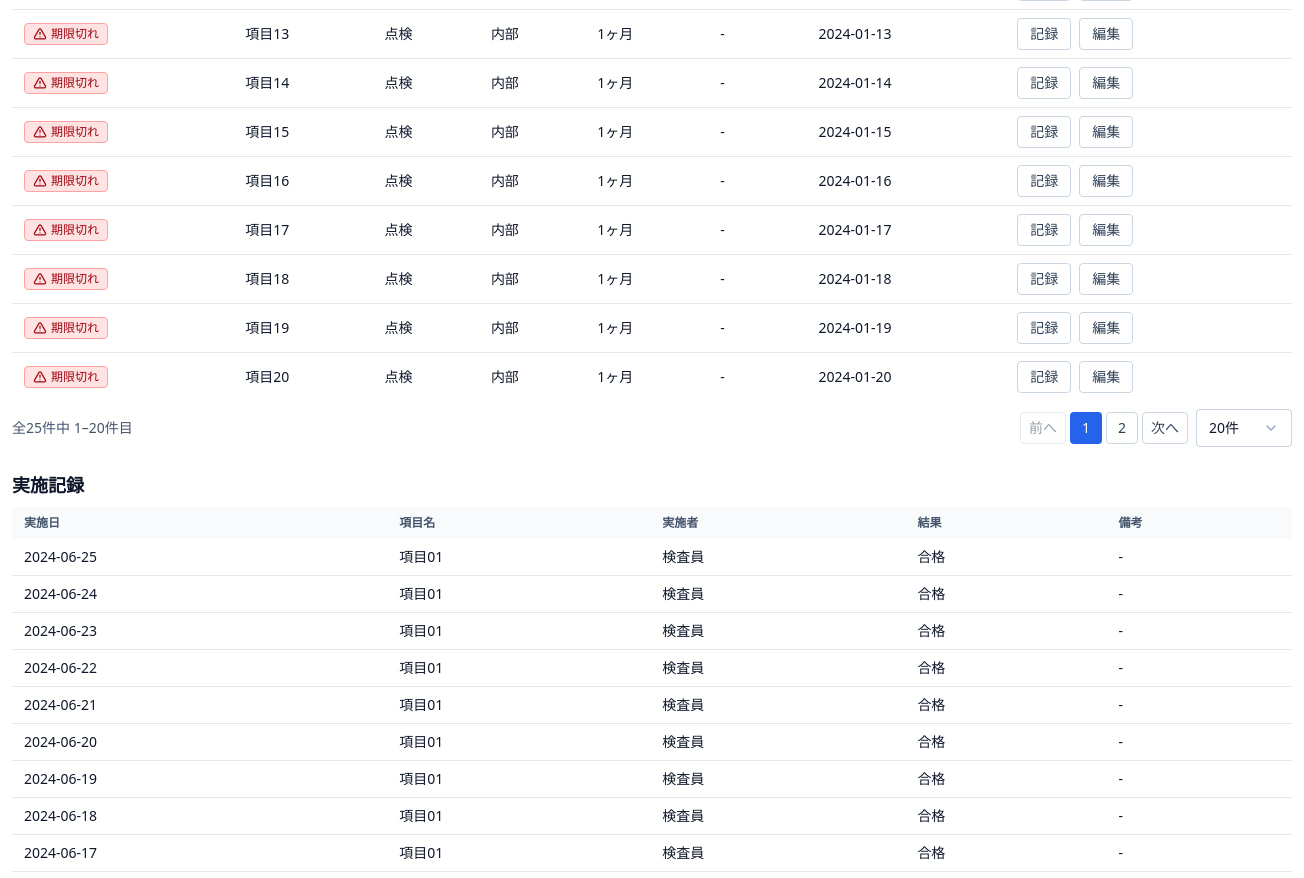
Test: EquipmentDetail: 点検校正項目テーブルのページネーション › 25件のうち1ページ目は20件のみ表示し、「次へ」で残り5件に切り替わる
(page scrolled)
Expected: the text "項目21" is not shown
Click the button "次へ".
click(1165, 428)  # box [1142,412,1188,444]
(page scrolled)
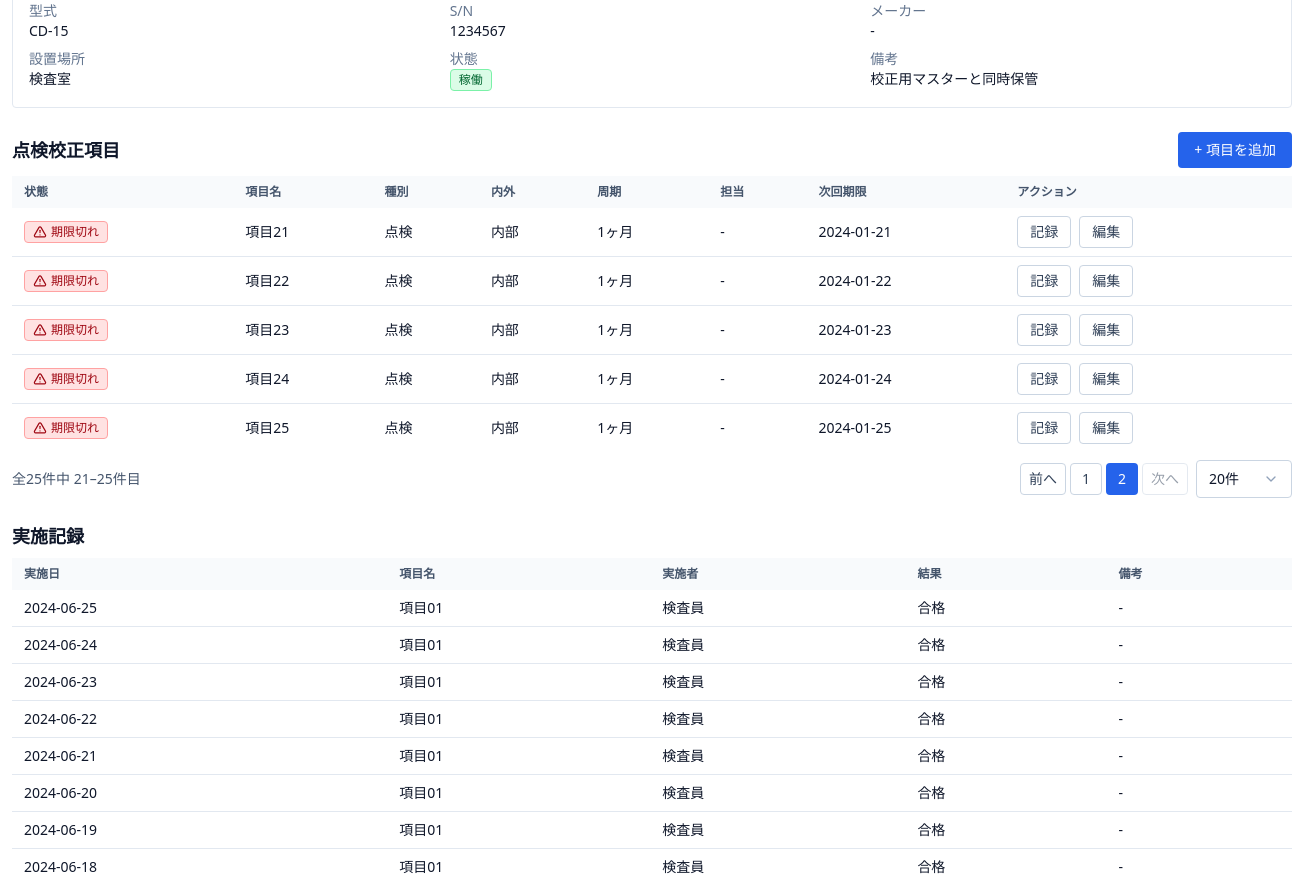
Result: the text "項目25" is shown at [245,418,289,437]
